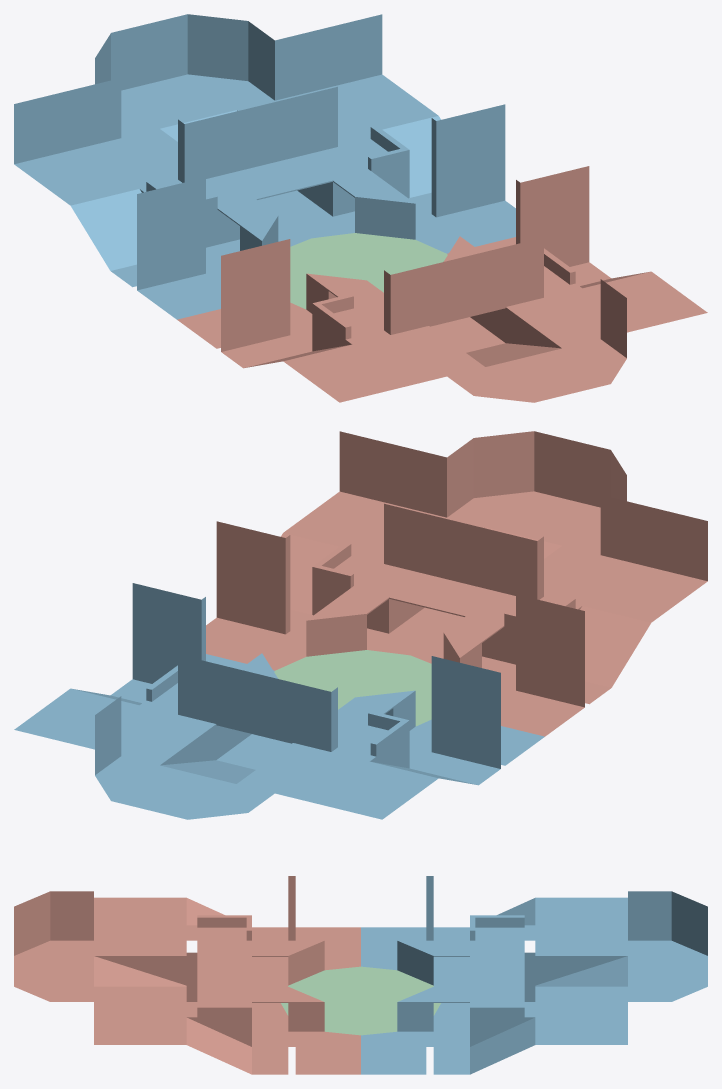
File: map.glb
3 renders of one model, top to bottom at view 1: azimuth 30°, elevation 25°; view 2: azimuth 150°, elevation 25°; view 3: azimuth 270°, elevation 25°, orthographic. The views are drawn at different scales.
Visible parts, largest first — view 1: Map; view 2: Map; view 3: Map.
Boxes of the visible parts, bbox=[...] form: Map: bbox=[14, 14, 707, 402]; Map: bbox=[14, 431, 707, 819]; Map: bbox=[14, 876, 707, 1074].
Size of the model in its own units: 32 by 8 by 63.67.
